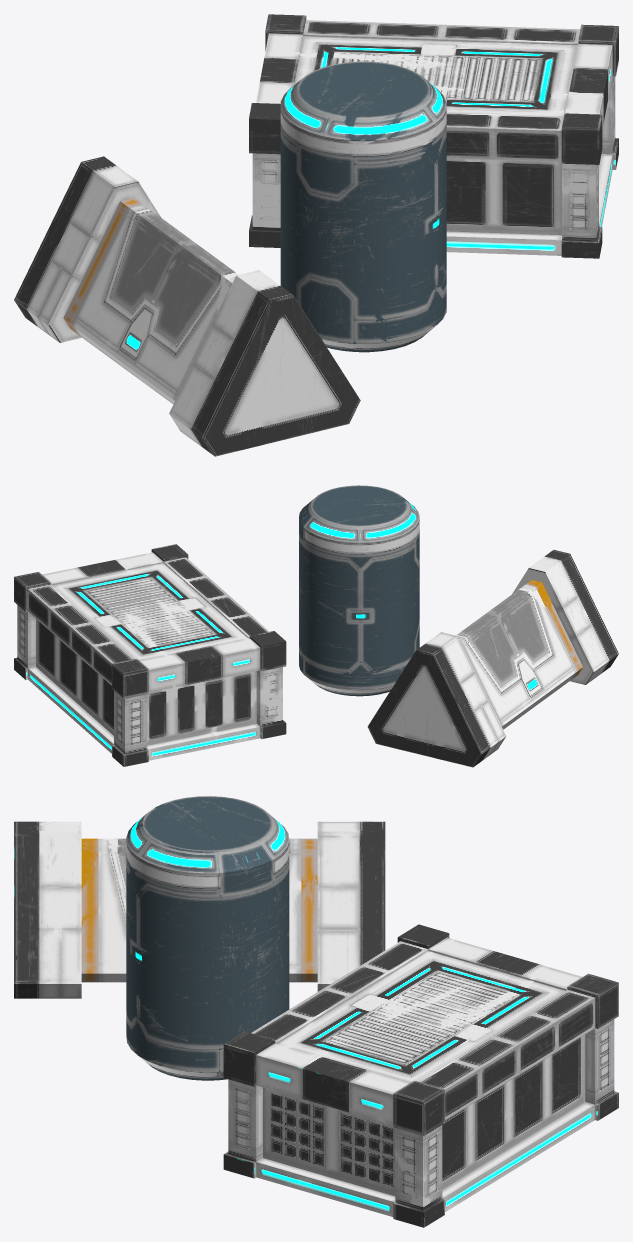
The model's file is ship_colony_base.glb.
3 renders of one model, top to bottom at view 1: azimuth 30°, elevation 25°; view 2: azimuth 150°, elevation 25°; view 3: azimuth 270°, elevation 25°, orthographic. The views are drawn at different scales.
Parts seen in each view (by area): view 1: SciFiBox2; view 2: SciFiBox2; view 3: SciFiBox2.
Part boxes in pixels (bbox=[...]): SciFiBox2: bbox=[14, 14, 618, 456]; SciFiBox2: bbox=[14, 485, 618, 767]; SciFiBox2: bbox=[14, 796, 618, 1227].
Bounding box in the file's own units: 4.18 × 1.5 × 3.59.
Materials: 1 (1 with a texture image).
